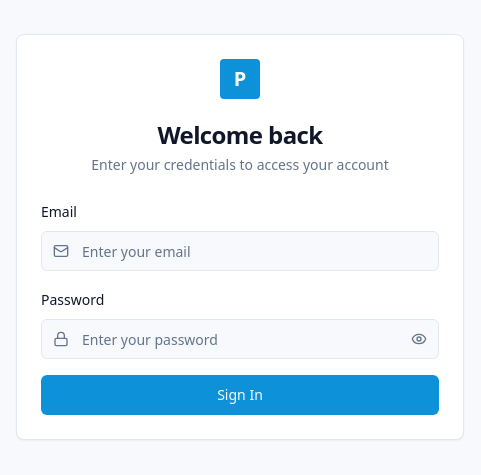
Test case: shows generic error copy for failed login
Type "wrong@example.com" into the field with placeholder "Enter your email" at (240, 251), box [41,231,439,271]
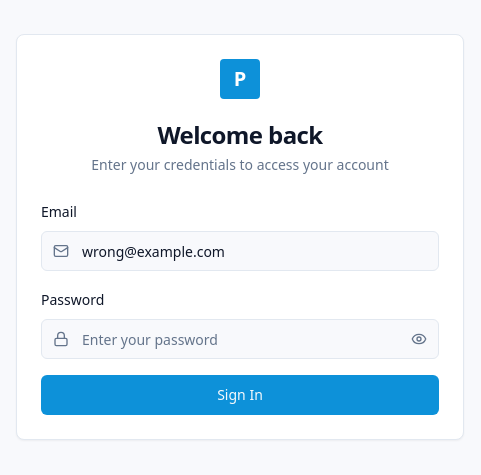
Type "adminpass" into the password field with placeholder "Enter your password" at (240, 339), box [41,319,439,359]
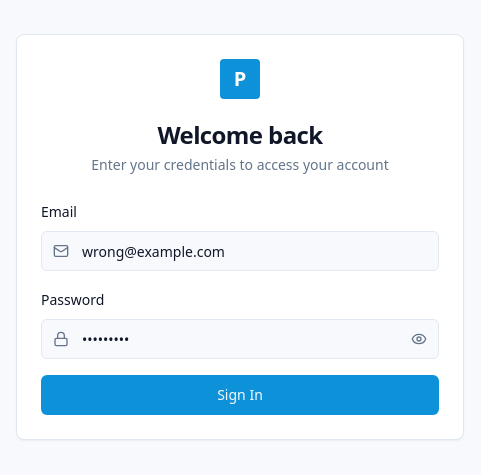
Click the button "Sign In" at (240, 395), box [41,375,439,415]
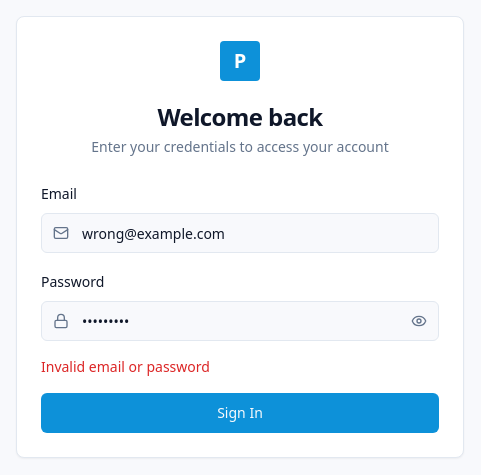
Check: the text "Invalid email or password" is shown, box [41,357,210,376]
